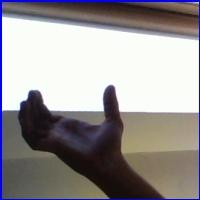space: (13, 83, 138, 175)
